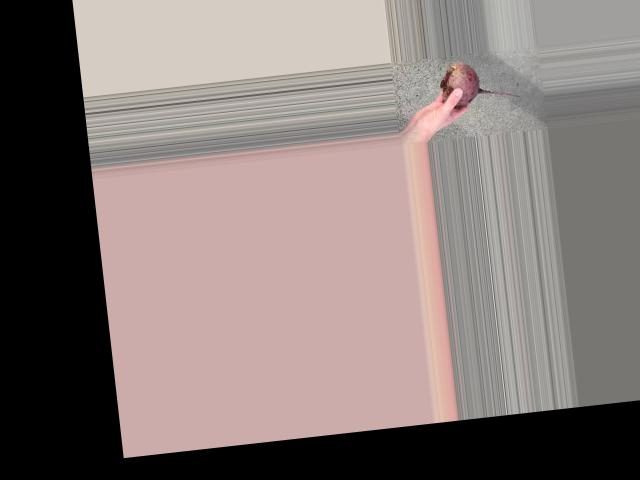beet: (438, 56, 520, 107)
